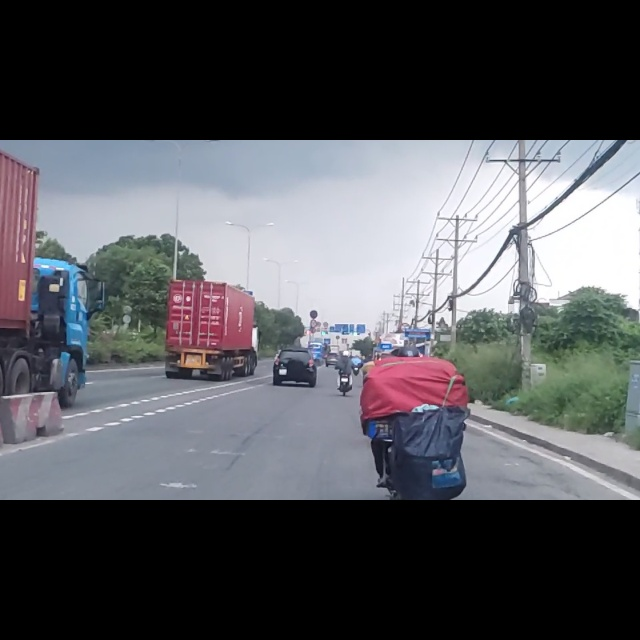bien_chi_dan: (309, 302, 319, 317)
